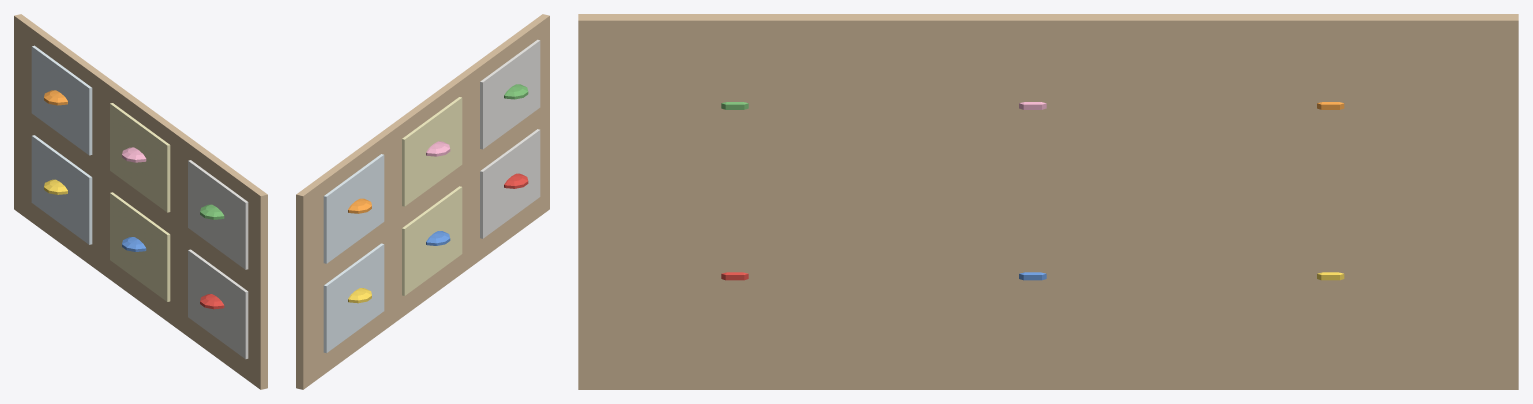
Rendered from classroom_pinboard.glb.
The picture shows the model from 3 angles, left to right: view 1: azimuth 30°, elevation 25°; view 2: azimuth 150°, elevation 25°; view 3: azimuth 270°, elevation 25°; orthographic projection. The views are drawn at different scales.
Parts seen in each view (by area): view 1: classroom_pinboard; view 2: classroom_pinboard; view 3: classroom_pinboard.
Part boxes in pixels (x1,y1,x2,y2): classroom_pinboard: (14,14,267,389); classroom_pinboard: (296,14,549,389); classroom_pinboard: (578,14,1518,389).
Bounding box in the file's own units: 0.1809 × 1.3 × 3.
